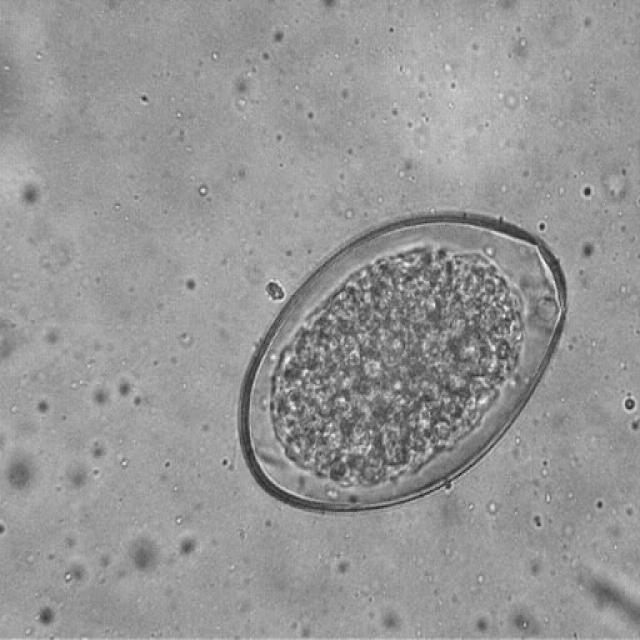Fasciola Hepatica: (235, 203, 577, 524)
